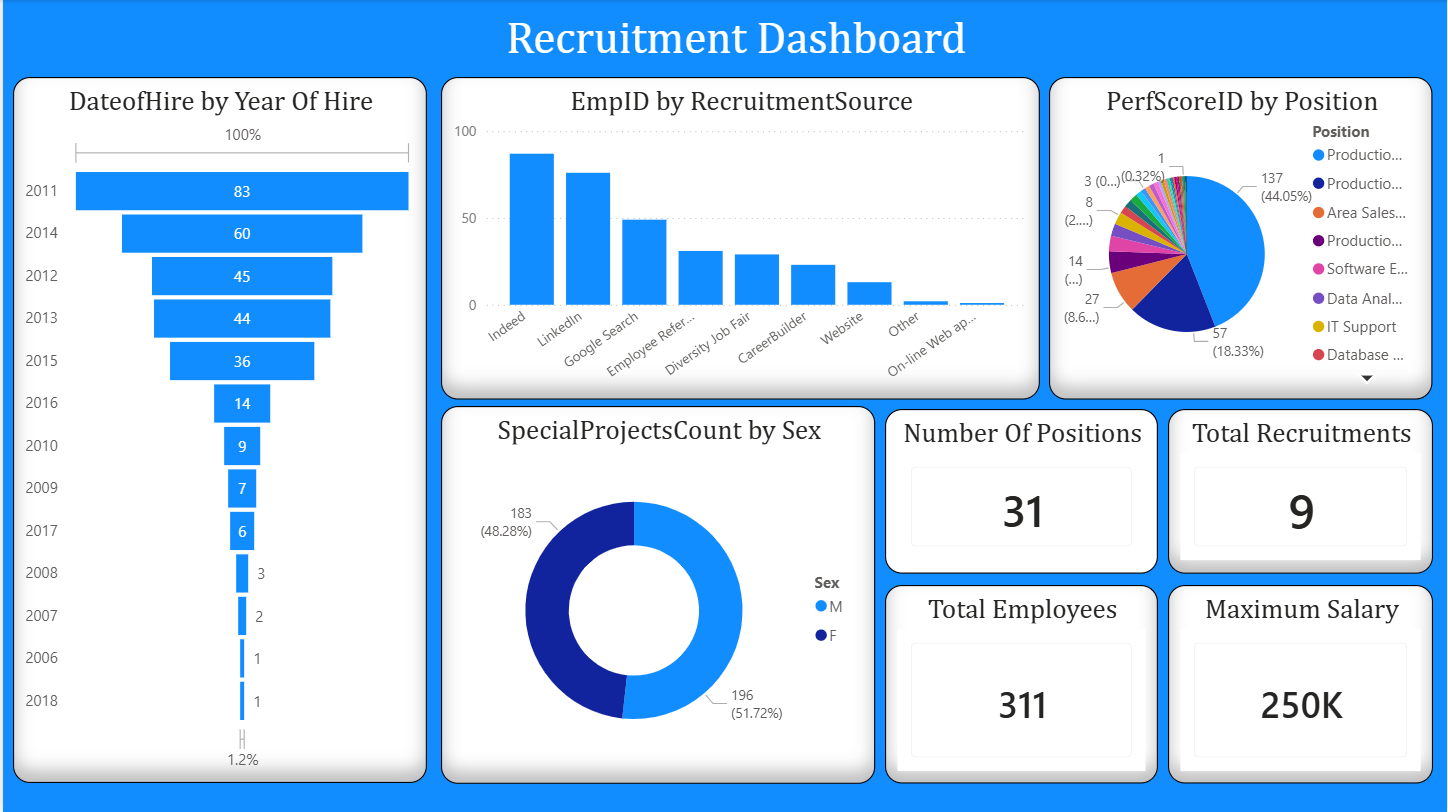

The dashboard page shown, as its layout file describes it:
{"tool":"powerbi","page":{"name":"Page 1","canvas":[1280,720],"ordinal":0},"visuals":[{"type":"funnel","title":"DateofHire by Year Of Hire","fields":{"Category":["HRDataset_v14.Year Of Hire"],"Y":["CountNonNull(HRDataset_v14.DateofHire)"]},"box":[8.8,68.1,366.7,626.4],"z":0},{"type":"donutChart","title":"SpecialProjectsCount by Sex","fields":{"Category":["HRDataset_v14.Sex"],"Y":["Sum(HRDataset_v14.SpecialProjectsCount)"]},"box":[388.1,359.9,385.2,334.6],"z":1000},{"type":"pieChart","title":"PerfScoreID by Position","fields":{"Category":["HRDataset_v14.Position"],"Y":["CountNonNull(HRDataset_v14.PerfScoreID)"]},"box":[927.9,68.1,340.4,286],"z":2000},{"type":"columnChart","title":"EmpID by RecruitmentSource","fields":{"Y":["CountNonNull(HRDataset_v14.EmpID)"],"Category":["HRDataset_v14.RecruitmentSource"]},"box":[388.1,68.1,531.1,286],"z":3000},{"type":"cardVisual","title":"Total Employees","fields":{"Data":["CountNonNull(HRDataset_v14.EmpID)"]},"box":[782,518.4,242.2,176],"z":4000},{"type":"cardVisual","title":"Total Recruitments","fields":{"Data":["Count(HRDataset_v14.RecruitmentSource)"]},"box":[1032.9,362.8,235.4,145.9],"z":5000},{"type":"cardVisual","title":"Maximum Salary","fields":{"Data":["Max(HRDataset_v14.Salary)"]},"box":[1032.9,518.4,235.4,176],"z":6000},{"type":"cardVisual","title":"Number Of Positions ","fields":{"Data":["Count(HRDataset_v14.Position)"]},"box":[782,362.8,242.2,145.9],"z":7000},{"type":"textbox","title":"Recruitment Dashboard ","box":[20.4,8.8,1259.6,51.6],"z":8000}]}

Visuals, with their boxes in screenshot pixels (x1, y1, x2, y2), scaled from the page's 1280x720 canvas onto the 1448x812 screenshot:
"DateofHire by Year Of Hire" funnel: x1=10, y1=77, x2=425, y2=783
"SpecialProjectsCount by Sex" donutChart: x1=439, y1=406, x2=875, y2=783
"PerfScoreID by Position" pieChart: x1=1050, y1=77, x2=1435, y2=399
"EmpID by RecruitmentSource" columnChart: x1=439, y1=77, x2=1040, y2=399
"Total Employees" cardVisual: x1=885, y1=585, x2=1159, y2=783
"Total Recruitments" cardVisual: x1=1168, y1=409, x2=1435, y2=574
"Maximum Salary" cardVisual: x1=1168, y1=585, x2=1435, y2=783
"Number Of Positions " cardVisual: x1=885, y1=409, x2=1159, y2=574
"Recruitment Dashboard " textbox: x1=23, y1=10, x2=1447, y2=68
